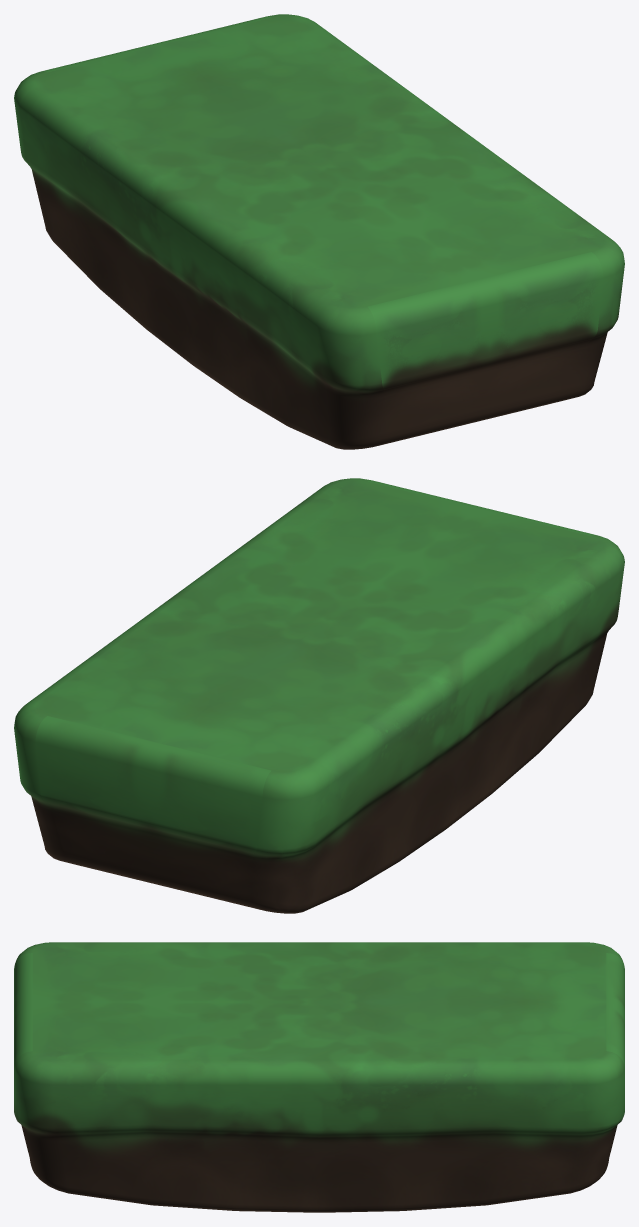
The model's file is terrain_small_2.fbx.
3 renders of one model, top to bottom at view 1: azimuth 30°, elevation 25°; view 2: azimuth 150°, elevation 25°; view 3: azimuth 270°, elevation 25°, orthographic. The views are drawn at different scales.
Visible parts, largest first — view 1: terrain_small_2; view 2: terrain_small_2; view 3: terrain_small_2.
Part boxes in pixels (left/top/right/bottom): terrain_small_2: left=14, top=14, right=624, bottom=449; terrain_small_2: left=14, top=478, right=624, bottom=913; terrain_small_2: left=14, top=942, right=624, bottom=1212.
Bounding box in the file's own units: 420 × 234 × 820.
